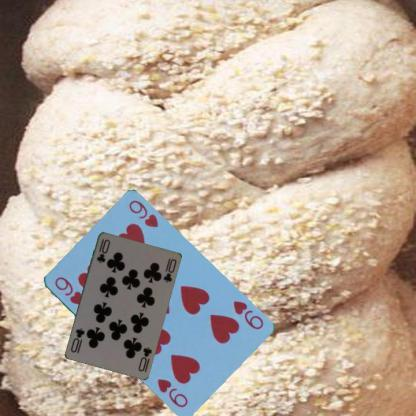10c: (135, 344, 153, 373), (94, 236, 111, 264)
9h: (230, 298, 265, 331), (52, 274, 84, 306)
